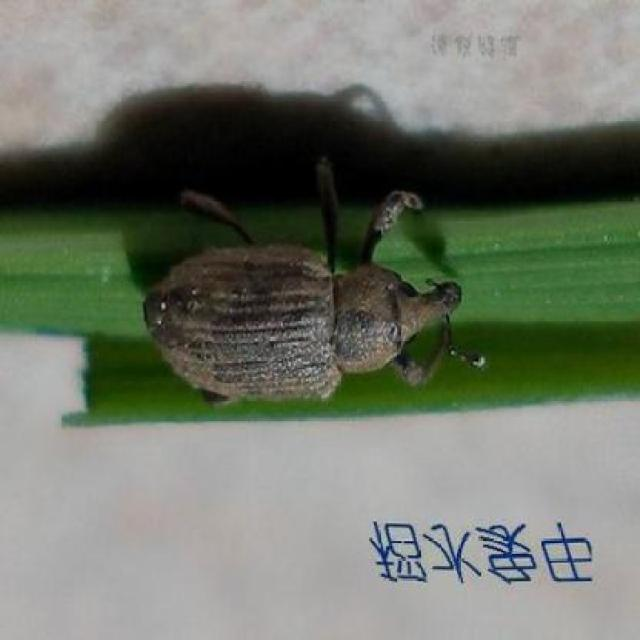rice-bug: (150, 170, 455, 412)
